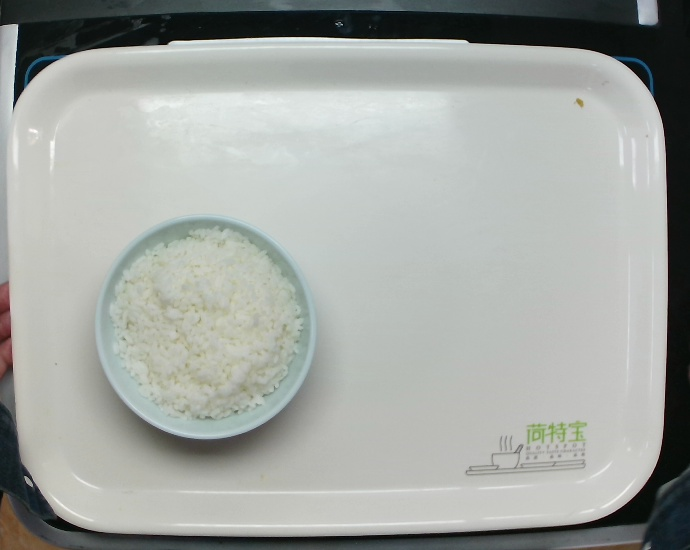JYsf-Fan_Wan: (92, 212, 318, 442)
